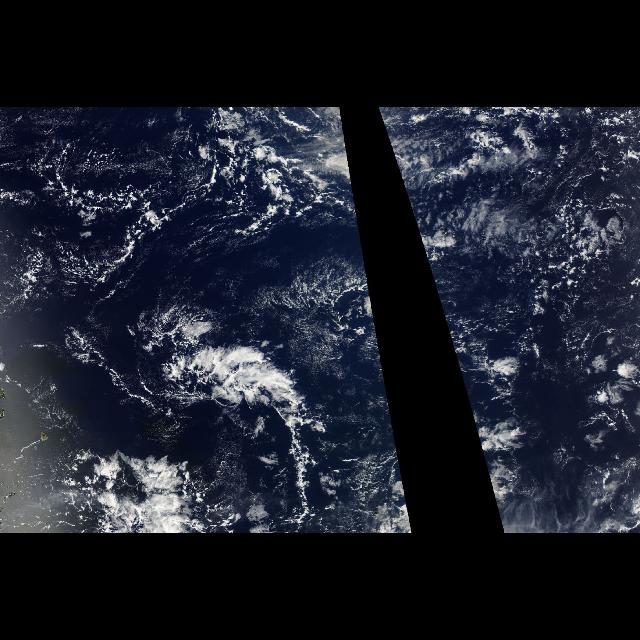Fish: (21, 214, 341, 466)
